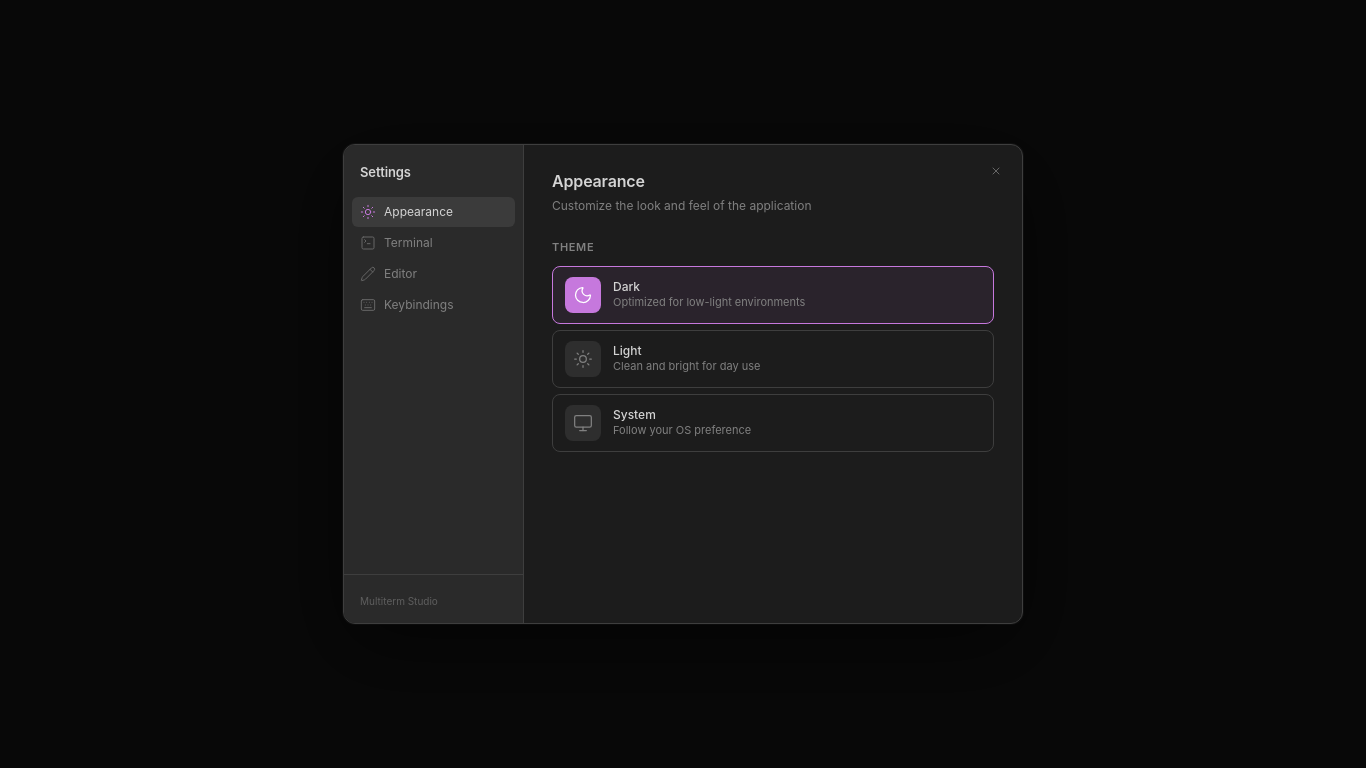
SettingsPanel — Terminal tab › Terminal tab shows "Scrollback size" label
Step 1. Click the button "Terminal" → (434,242), box [352, 228, 515, 258]
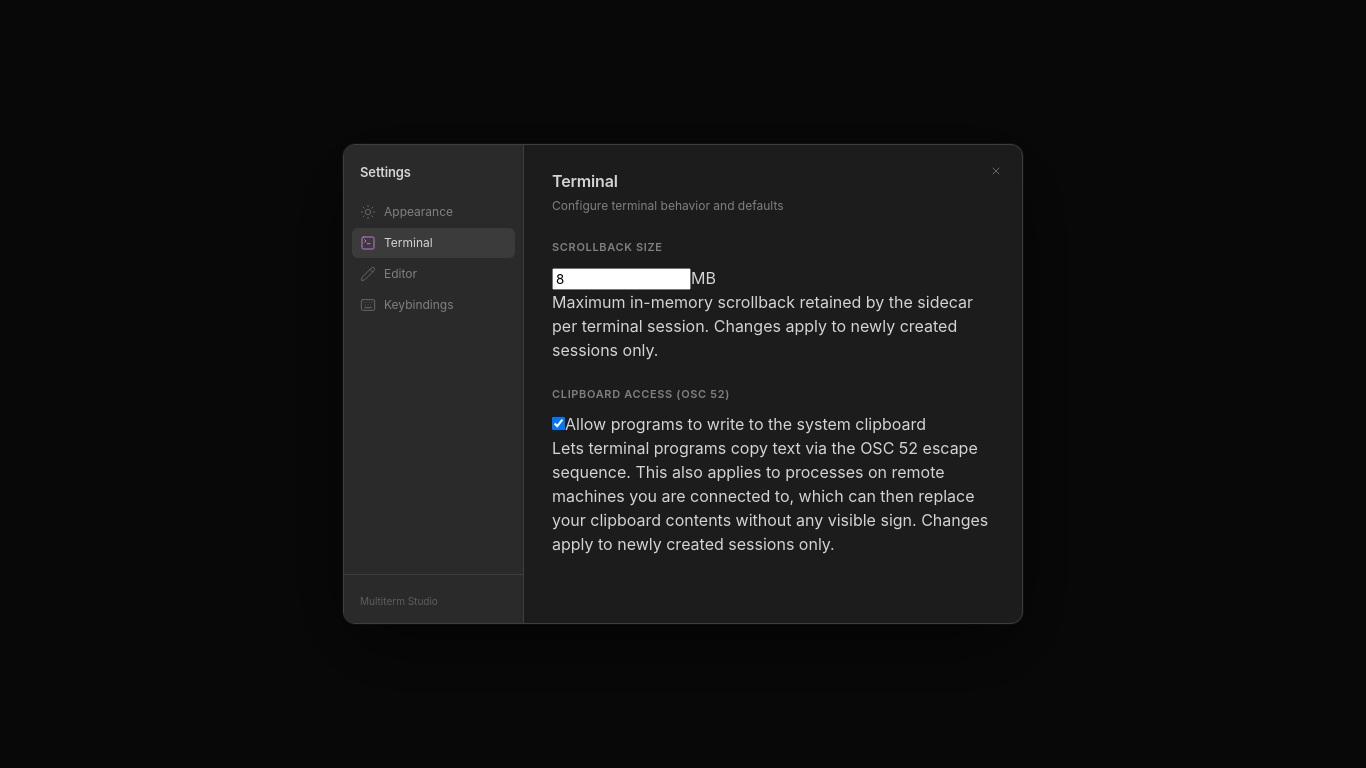
Expected: the text "Scrollback size" is shown, [552, 240, 663, 254]
